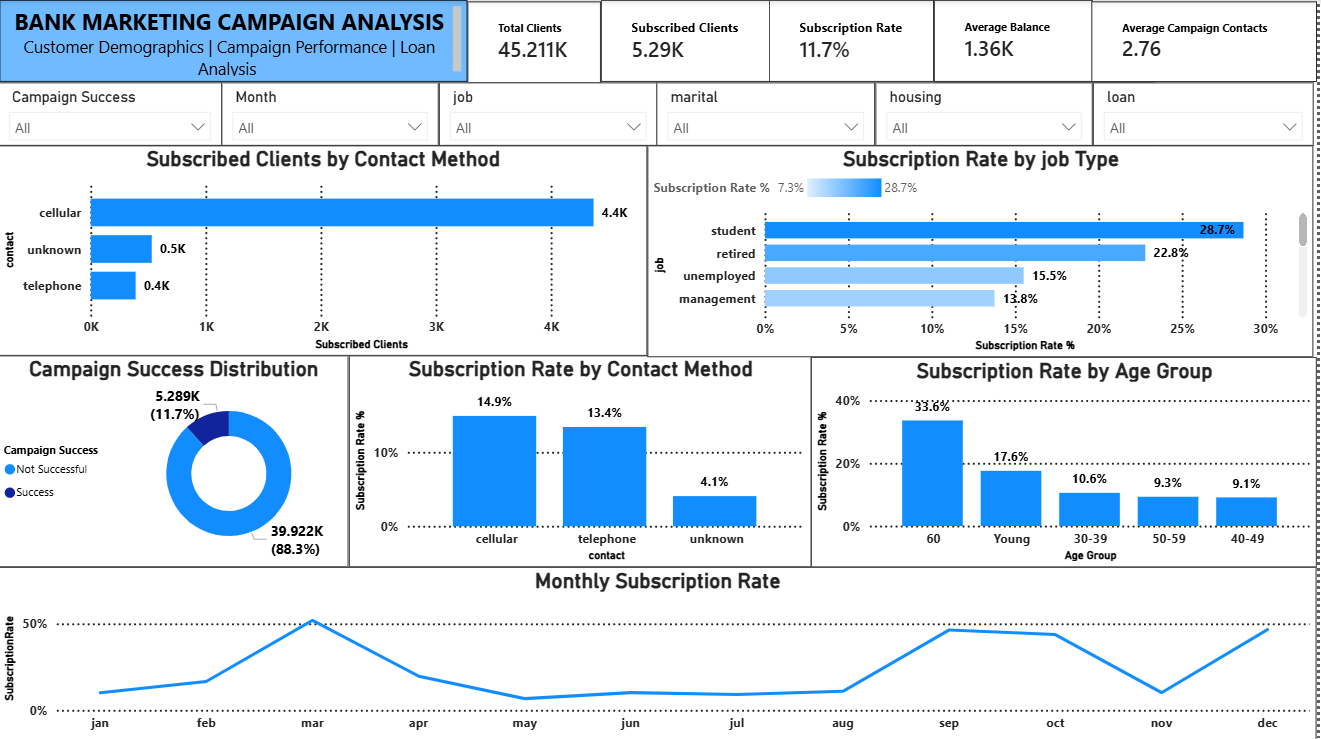

What the dashboard file says about the page in this screenshot:
{"tool":"powerbi","page":{"name":"Campaign Overview","canvas":[1280,720],"ordinal":0},"visuals":[{"type":"cardVisual","fields":{"Data":["FactCampaign.Total Clients"]},"box":[455,1.6,129.5,79],"z":0},{"type":"cardVisual","fields":{"Data":["FactCampaign.Subscribed Clients"]},"box":[584.5,0,165.2,79],"z":1000},{"type":"cardVisual","fields":{"Data":["FactCampaign.Subscription Rate %"]},"box":[748.1,0,160.3,79.3],"z":2000},{"type":"cardVisual","fields":{"Data":["FactCampaign.Average Balance"]},"box":[908.4,0,153.8,79.3],"z":3000},{"type":"cardVisual","fields":{"Data":["FactCampaign.Average Campaign Contacts"]},"box":[1061.4,1.6,218.6,77.7],"z":4000},{"type":"textbox","box":[1.6,0,454,79.3],"z":5000},{"type":"clusteredBarChart","title":"Subscribed Clients by Contact Method","fields":{"Y":["FactCampaign.Subscribed Clients"],"Category":["FactCampaign.contact"]},"box":[0,140.9,629.9,204],"z":6000},{"type":"clusteredColumnChart","title":"Subscription Rate by Contact Method","fields":{"Category":["FactCampaign.contact"],"Y":["FactCampaign.Subscription Rate %"]},"box":[340,344.9,448.5,205.6],"z":7000},{"type":"lineChart","title":"Monthly Subscription Rate","fields":{"Category":["DimMonth.Month"],"Y":["FactCampaign.Subscription Rate %"]},"box":[0,550.5,1279.2,170],"z":8000},{"type":"columnChart","title":"Subscription Rate by Age Group","fields":{"Category":["FactCampaign.Age Group"],"Y":["FactCampaign.Subscription Rate %"]},"box":[788.6,346.5,490.6,204],"z":9000},{"type":"clusteredBarChart","title":"Subscription Rate by job Type","fields":{"Category":["FactCampaign.job"],"Y":["FactCampaign.Subscription Rate %"]},"box":[629.9,140.9,646.1,205.6],"z":10000},{"type":"donutChart","title":"Campaign Success Distribution","fields":{"Category":["FactCampaign.Campaign Success"],"Y":["FactCampaign.Total Clients"]},"box":[0,344.9,340,205.6],"z":11000},{"type":"slicer","fields":{"Values":["FactCampaign.Campaign Success"]},"box":[0,79.3,217,61],"z":12000},{"type":"slicer","fields":{"Values":["DimMonth.Month"]},"box":[217,79.3,210.5,61.5],"z":13000},{"type":"slicer","fields":{"Values":["FactCampaign.job"]},"box":[427.5,79.3,212,61.5],"z":14000},{"type":"slicer","fields":{"Values":["FactCampaign.marital"]},"box":[639.6,79.3,212,61.5],"z":15000},{"type":"slicer","fields":{"Values":["FactCampaign.education"]},"box":[908.4,79.3,213.7,61.5],"z":16000},{"type":"slicer","fields":{"Values":["FactCampaign.housing"]},"box":[851.7,79.3,210.5,61.5],"z":17000},{"type":"slicer","fields":{"Values":["FactCampaign.loan"]},"box":[1062.2,79.3,213.7,61.5],"z":18000}]}

Visuals, with their boxes in screenshot pixels (x1, y1, x2, y2), scaled from the page's 1280x720 canvas onto the 1321x739 screenshot:
cardVisual - FactCampaign.Total Clients: box(470, 2, 603, 83)
cardVisual - FactCampaign.Subscribed Clients: box(603, 0, 774, 81)
cardVisual - FactCampaign.Subscription Rate %: box(772, 0, 937, 81)
cardVisual - FactCampaign.Average Balance: box(937, 0, 1096, 81)
cardVisual - FactCampaign.Average Campaign Contacts: box(1095, 2, 1320, 81)
textbox: box(2, 0, 470, 81)
"Subscribed Clients by Contact Method" clusteredBarChart: box(0, 145, 650, 354)
"Subscription Rate by Contact Method" clusteredColumnChart: box(351, 354, 814, 565)
"Monthly Subscription Rate" lineChart: box(0, 565, 1320, 738)
"Subscription Rate by Age Group" columnChart: box(814, 356, 1320, 565)
"Subscription Rate by job Type" clusteredBarChart: box(650, 145, 1317, 356)
"Campaign Success Distribution" donutChart: box(0, 354, 351, 565)
slicer - FactCampaign.Campaign Success: box(0, 81, 224, 144)
slicer - DimMonth.Month: box(224, 81, 441, 145)
slicer - FactCampaign.job: box(441, 81, 660, 145)
slicer - FactCampaign.marital: box(660, 81, 879, 145)
slicer - FactCampaign.education: box(937, 81, 1158, 145)
slicer - FactCampaign.housing: box(879, 81, 1096, 145)
slicer - FactCampaign.loan: box(1096, 81, 1317, 145)
